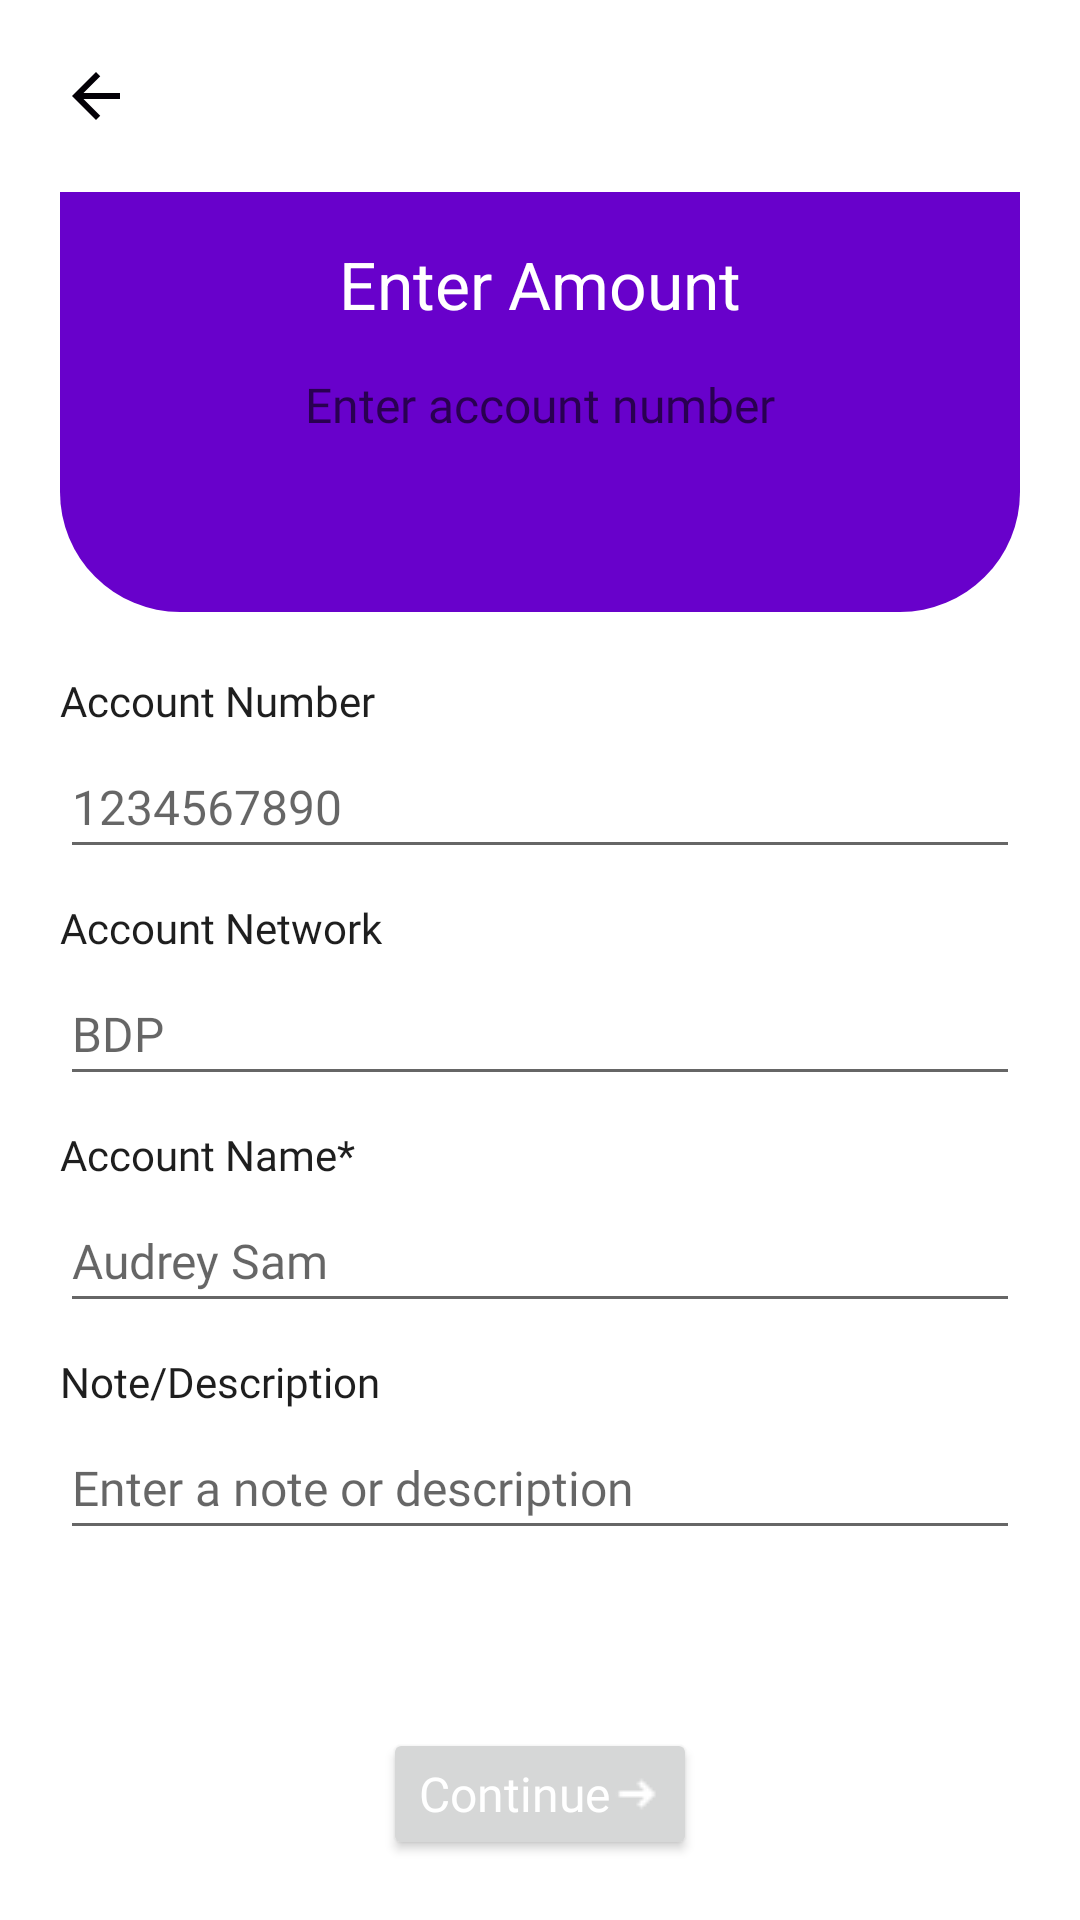

Locate icon controls on the screen. Image size 1080 × 1920, boxes as (x1, y1, x2, y2).
arrow back: (72, 72, 120, 120)
